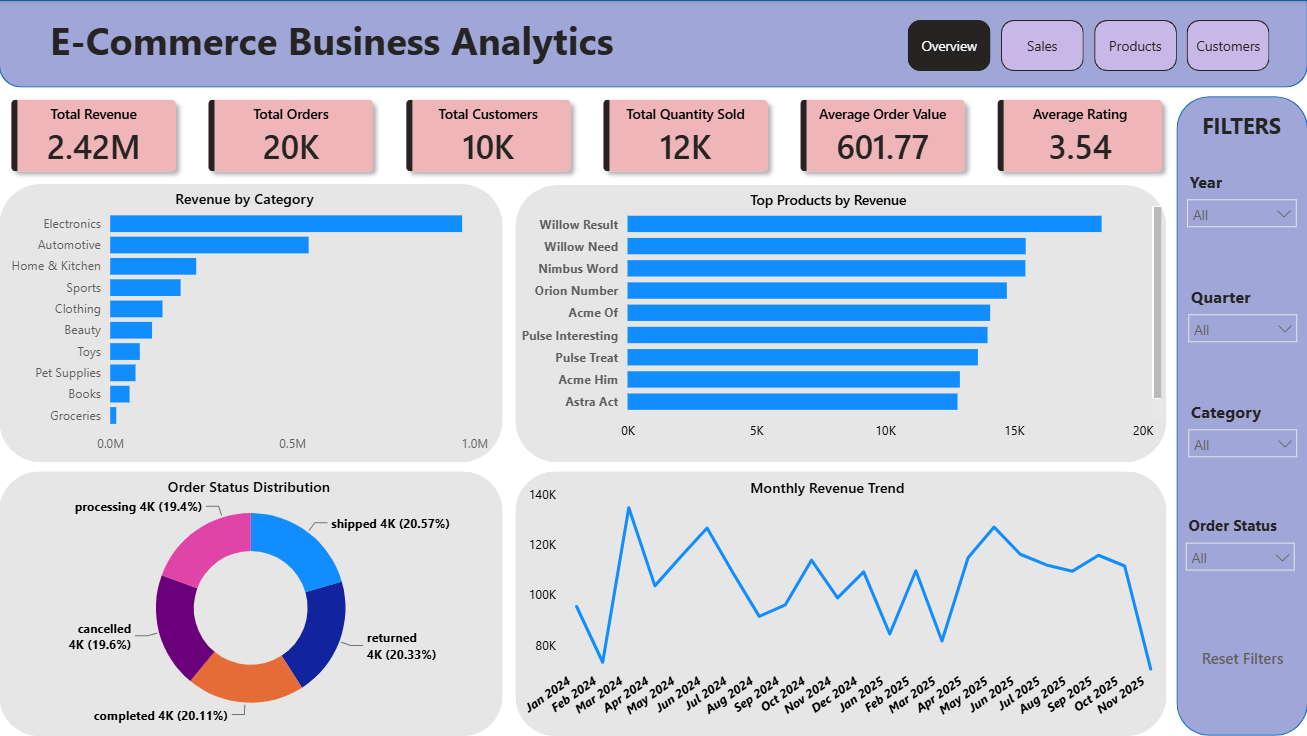

Layout of this report page (visuals, bound fields, positions):
{"tool":"powerbi","page":{"name":"Overview","canvas":[1280,720],"ordinal":0},"visuals":[{"type":"cardVisual","fields":{"Data":["Measures_Table.Total Revenue","Measures_Table.Total Orders","Measures_Table.Total Customers","Measures_Table.Total Quantity Sold","Measures_Table.Average Order Value","Measures_Table.Average Rating"]},"box":[0,85.6,1151.9,94.2],"z":0},{"type":"shape","box":[0,0,1280.3,85.6],"z":1000},{"type":"shape","box":[0,179.8,492.8,272.7],"z":2000},{"type":"textbox","box":[0,8.6,640.8,72.1],"z":3000},{"type":"clusteredBarChart","fields":{"Category":["products.category"],"Y":["Measures_Table.Total Revenue"]},"box":[0,189.5,484.2,262.9],"z":4000},{"type":"pageNavigator","box":[889,19.6,357.1,50.1],"z":5000},{"type":"shape","box":[1151.4,94.3,128.6,625.7],"z":6000},{"type":"slicer","fields":{"Values":["Date.Year"]},"box":[1152.5,161.2,127.5,83.8],"z":7000},{"type":"slicer","fields":{"Values":["Date.Quarter"]},"box":[1152.9,274.3,127.1,82.9],"z":8000},{"type":"slicer","fields":{"Values":["products.category"]},"box":[1152.9,386.5,127.1,82.9],"z":9000},{"type":"slicer","fields":{"Values":["orders.order_status"]},"box":[1151.2,498.8,127.1,82.9],"z":10000},{"type":"textbox","box":[1152.5,102.5,127.5,45],"z":11000},{"type":"actionButton","title":"Reset Filters","box":[1166.2,623.8,100,40],"z":12000},{"type":"shape","box":[505,181,637.1,271.5],"z":13000},{"type":"clusteredBarChart","fields":{"Category":["products.product_name"],"Y":["Measures_Table.Total Revenue"]},"box":[505,189.5,637.1,250.7],"z":14000},{"type":"shape","box":[0,461,492.8,259.2],"z":15000},{"type":"donutChart","fields":{"Y":["Measures_Table.Total Orders"],"Category":["orders.order_status"]},"box":[0,469.6,492.8,250.7],"z":16000},{"type":"shape","box":[505,461,637.1,259.2],"z":17000},{"type":"lineChart","fields":{"Y":["Measures_Table.Total Revenue"],"Category":["Date.Month Year Short"]},"box":[505,469.6,637.1,250.7],"z":18000},{"type":"textbox","box":[167.5,179.8,160.2,33],"z":19000},{"type":"textbox","box":[730,181,187.1,33],"z":20000},{"type":"textbox","box":[160.2,461,187.1,33],"z":21000},{"type":"textbox","box":[730,462.2,187.1,33],"z":22000}]}

Visuals, with their boxes in screenshot pixels (x1, y1, x2, y2), scaled from the page's 1280x720 canvas onto the 1307x736 screenshot:
cardVisual - Measures_Table.Total Revenue x Measures_Table.Total Orders: Rect(0, 88, 1176, 184)
shape: Rect(0, 0, 1306, 88)
shape: Rect(0, 184, 503, 463)
textbox: Rect(0, 9, 654, 82)
clusteredBarChart - products.category x Measures_Table.Total Revenue: Rect(0, 194, 494, 462)
pageNavigator: Rect(908, 20, 1272, 71)
shape: Rect(1176, 96, 1306, 735)
slicer - Date.Year: Rect(1177, 165, 1306, 250)
slicer - Date.Quarter: Rect(1177, 280, 1306, 365)
slicer - products.category: Rect(1177, 395, 1306, 480)
slicer - orders.order_status: Rect(1175, 510, 1305, 595)
textbox: Rect(1177, 105, 1306, 151)
"Reset Filters" actionButton: Rect(1191, 638, 1293, 679)
shape: Rect(516, 185, 1166, 463)
clusteredBarChart - products.product_name x Measures_Table.Total Revenue: Rect(516, 194, 1166, 450)
shape: Rect(0, 471, 503, 735)
donutChart - Measures_Table.Total Orders x orders.order_status: Rect(0, 480, 503, 735)
shape: Rect(516, 471, 1166, 735)
lineChart - Measures_Table.Total Revenue x Date.Month Year Short: Rect(516, 480, 1166, 735)
textbox: Rect(171, 184, 335, 218)
textbox: Rect(745, 185, 936, 219)
textbox: Rect(164, 471, 355, 505)
textbox: Rect(745, 472, 936, 506)
